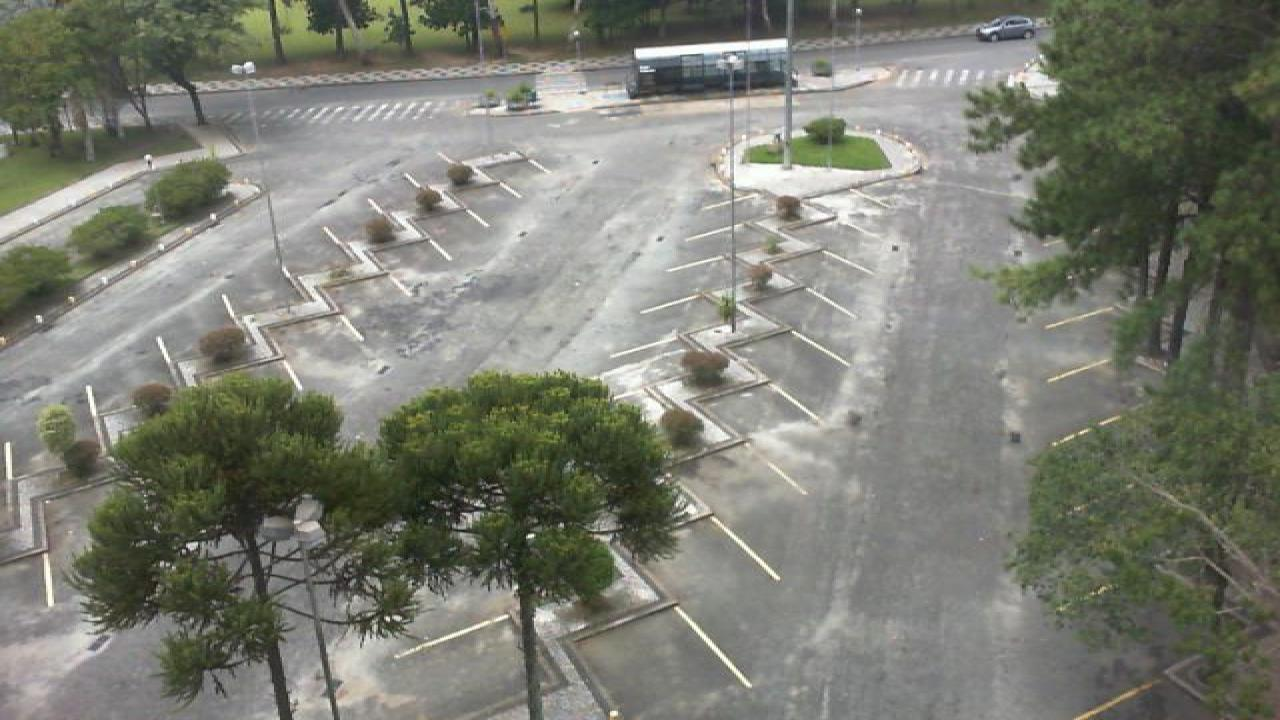Car: (974, 16, 1038, 42)
